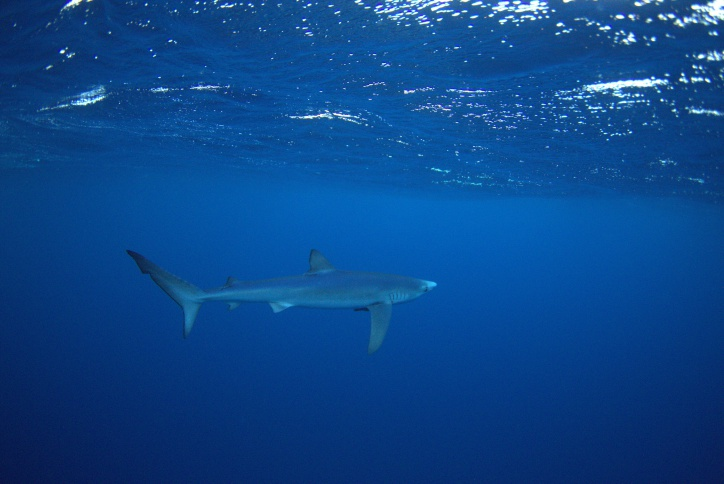Azul: (117, 226, 448, 356)
